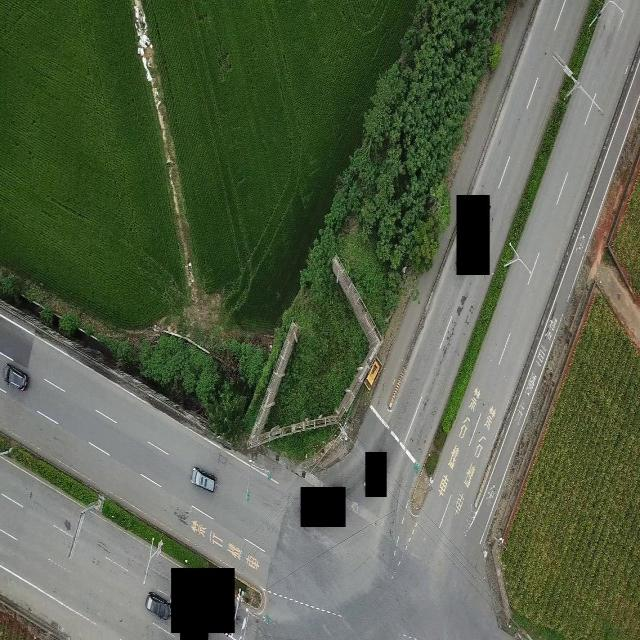car: (0, 353, 31, 393), (145, 590, 171, 620), (190, 466, 217, 493)
